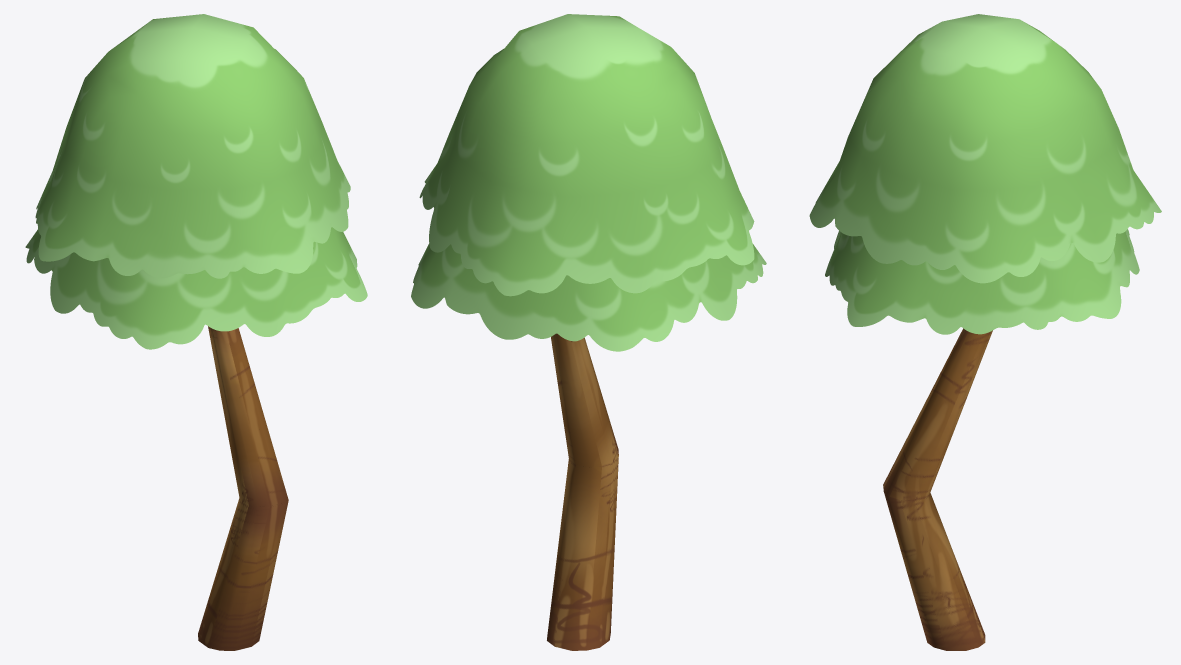
Rendered from arvore 3.fbx.
The picture shows the model from 3 angles, left to right: view 1: azimuth 30°, elevation 25°; view 2: azimuth 150°, elevation 25°; view 3: azimuth 270°, elevation 25°; orthographic projection. The views are drawn at different scales.
Visible parts, largest first — view 1: copa arvore.006, copa arvore.005, tronco 2.001; view 2: copa arvore.006, copa arvore.005, tronco 2.001; view 3: copa arvore.006, copa arvore.005, tronco 2.001.
Boxes of the visible parts, box(x1,y1,x2,y2) form: copa arvore.006: box(35, 14, 350, 278); copa arvore.005: box(25, 227, 367, 349); tronco 2.001: box(198, 326, 288, 650); copa arvore.006: box(419, 14, 754, 296); copa arvore.005: box(411, 243, 766, 351); tronco 2.001: box(547, 333, 618, 650); copa arvore.006: box(809, 14, 1161, 283); copa arvore.005: box(825, 229, 1139, 334); tronco 2.001: box(883, 328, 992, 650).
Bounding box in the file's own units: 422 × 762 × 422.
Materials: 2 (2 with a texture image).
